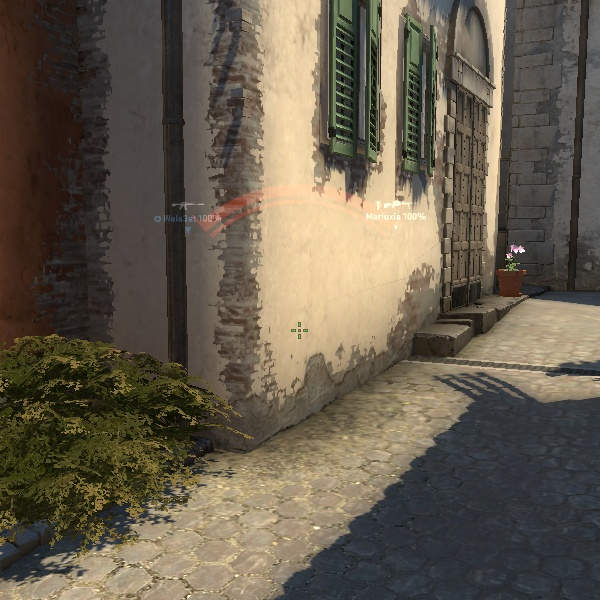t_body: (494, 245, 532, 298)
